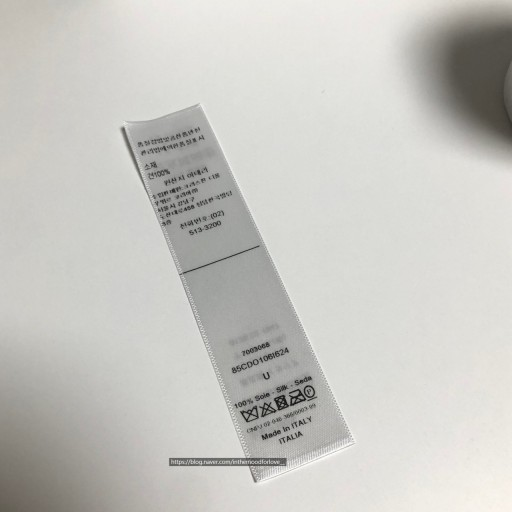ER_dry_clean_chemical_mild: (301, 382, 320, 403)
ER_no_bleach: (257, 398, 278, 420)
ER_no_iron: (284, 385, 308, 408)
ER_no_tumble_dry: (271, 392, 291, 413)
ER_no_wash: (237, 401, 260, 425)
